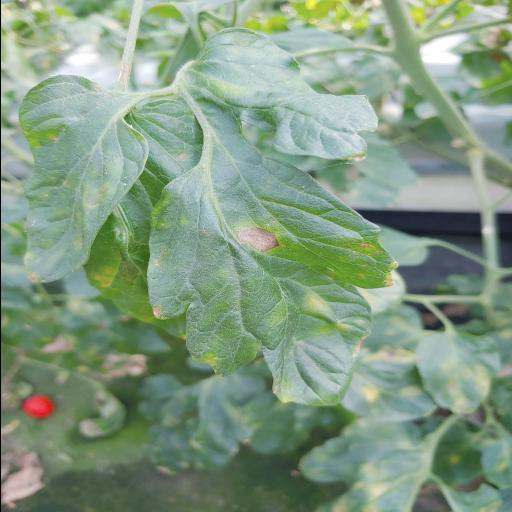disease_tomato: (146, 30, 400, 408), (16, 75, 150, 284), (414, 332, 502, 416)
